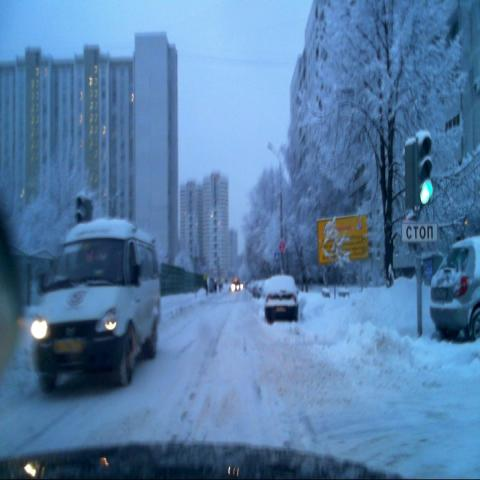6_16: (401, 222, 438, 244)
